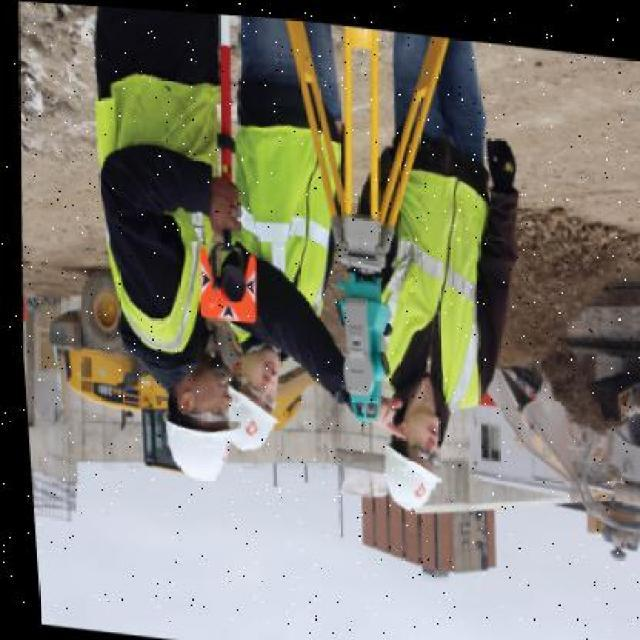helmet: (362, 432, 448, 518), (149, 405, 227, 478), (214, 385, 276, 462)
vest: (82, 76, 228, 357), (361, 145, 489, 408), (223, 102, 340, 343)
